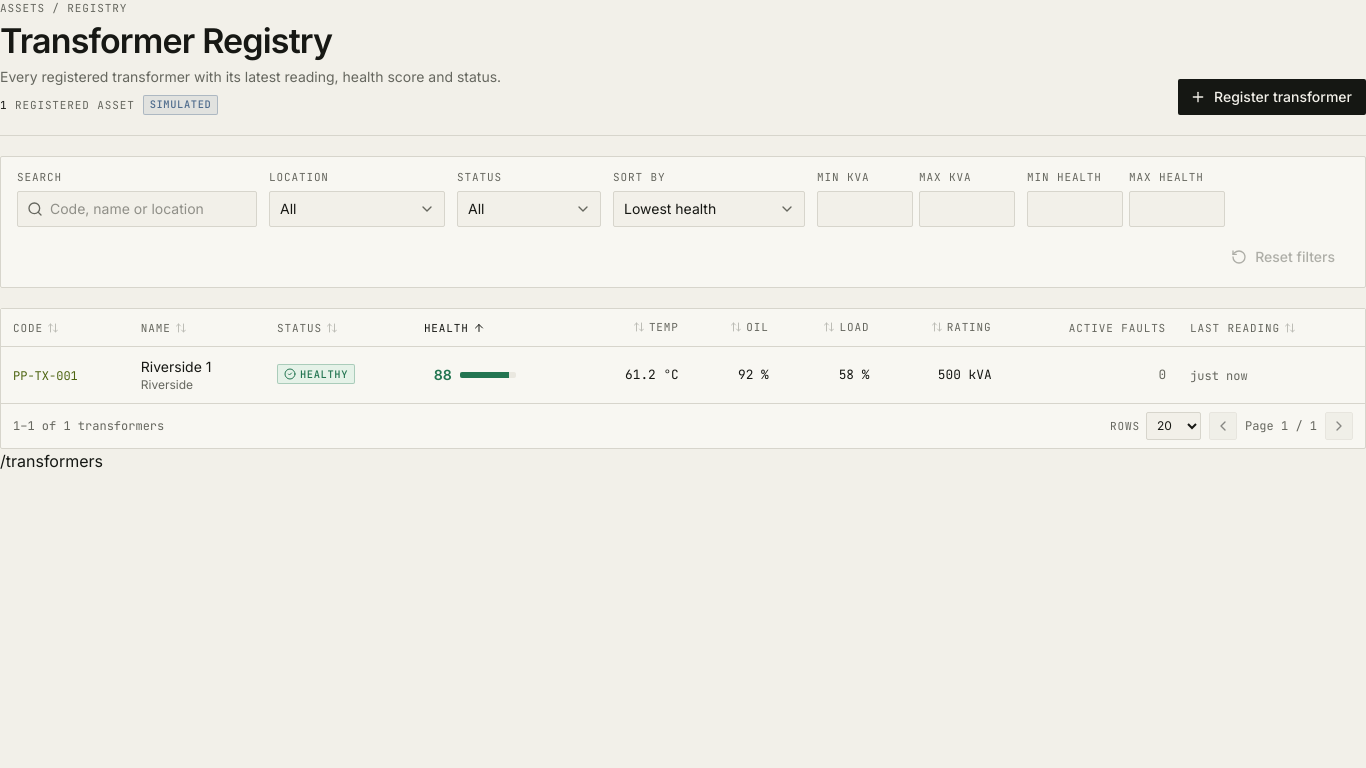
it: TransformersPage › opens the register dialog for engineers
What coordinates should you click on to do the following:
click the button "Register transformer"
I would click on:
 (1272, 96)
Its box is [1178,78,1365,114].
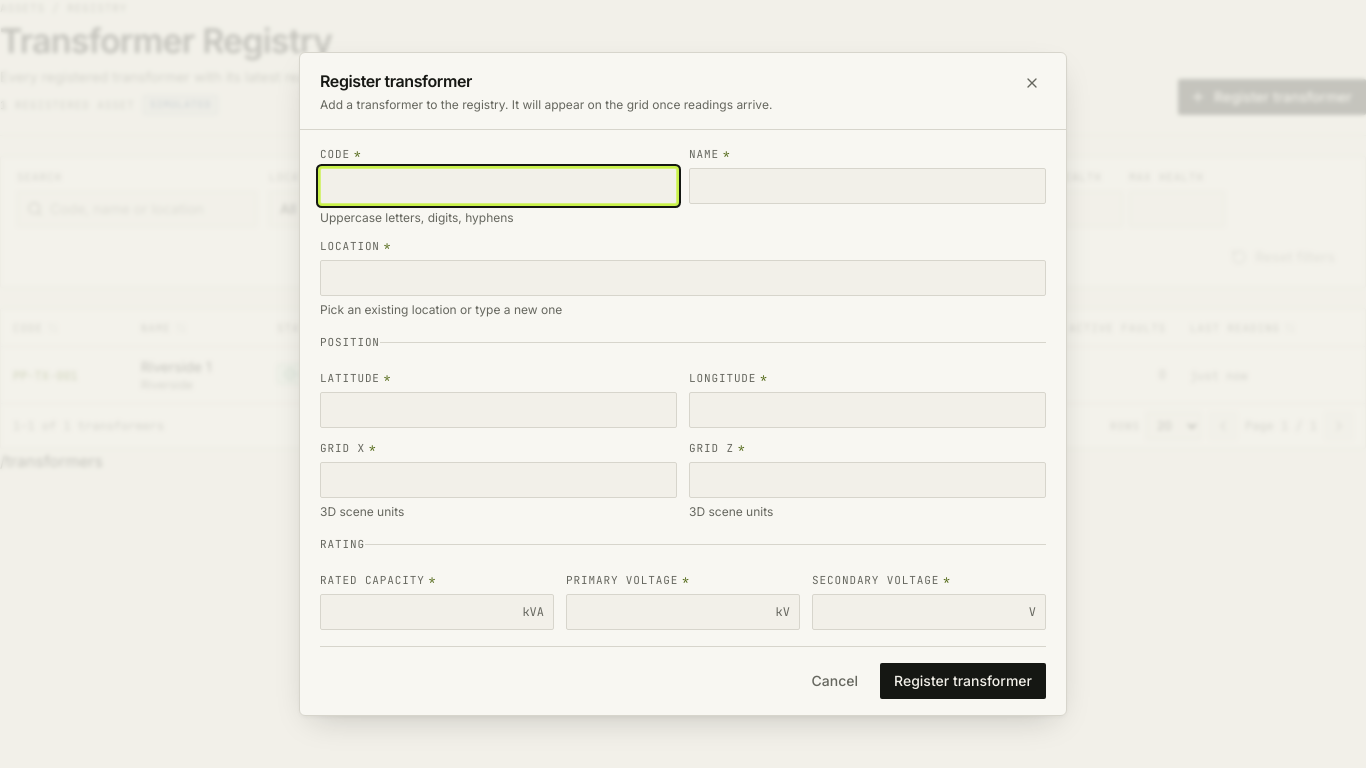
Check: the dialog "Register transformer" is shown, box [299,52,1067,716]
